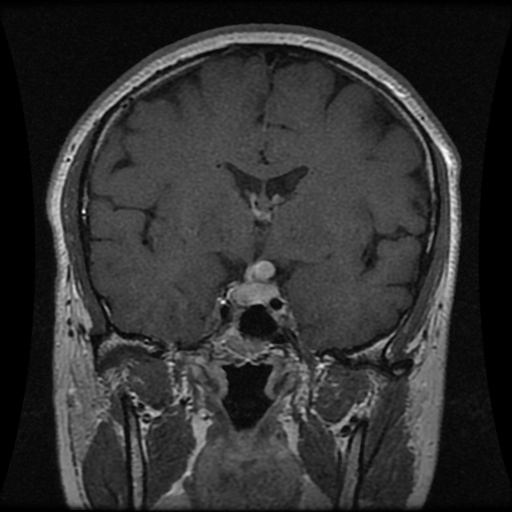pituitary: (232, 262, 278, 305)
